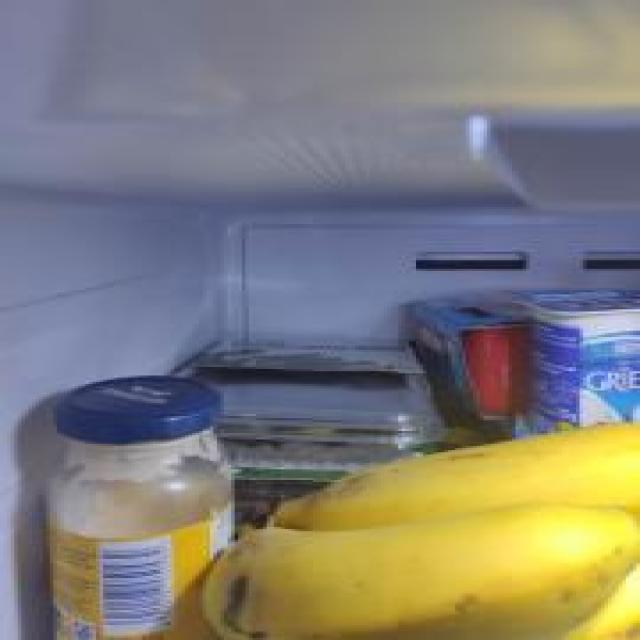banana: (202, 529, 640, 640), (274, 422, 640, 529), (558, 563, 636, 640)
mayonaise: (46, 371, 231, 640)
yogurt: (515, 290, 640, 452)
